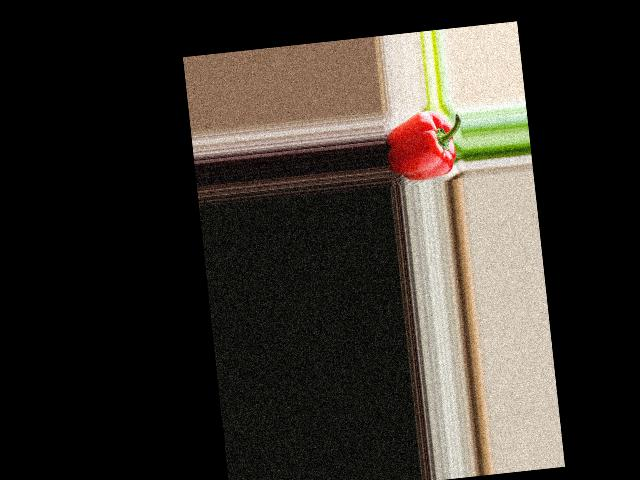bell_pepper: (381, 105, 464, 182)
